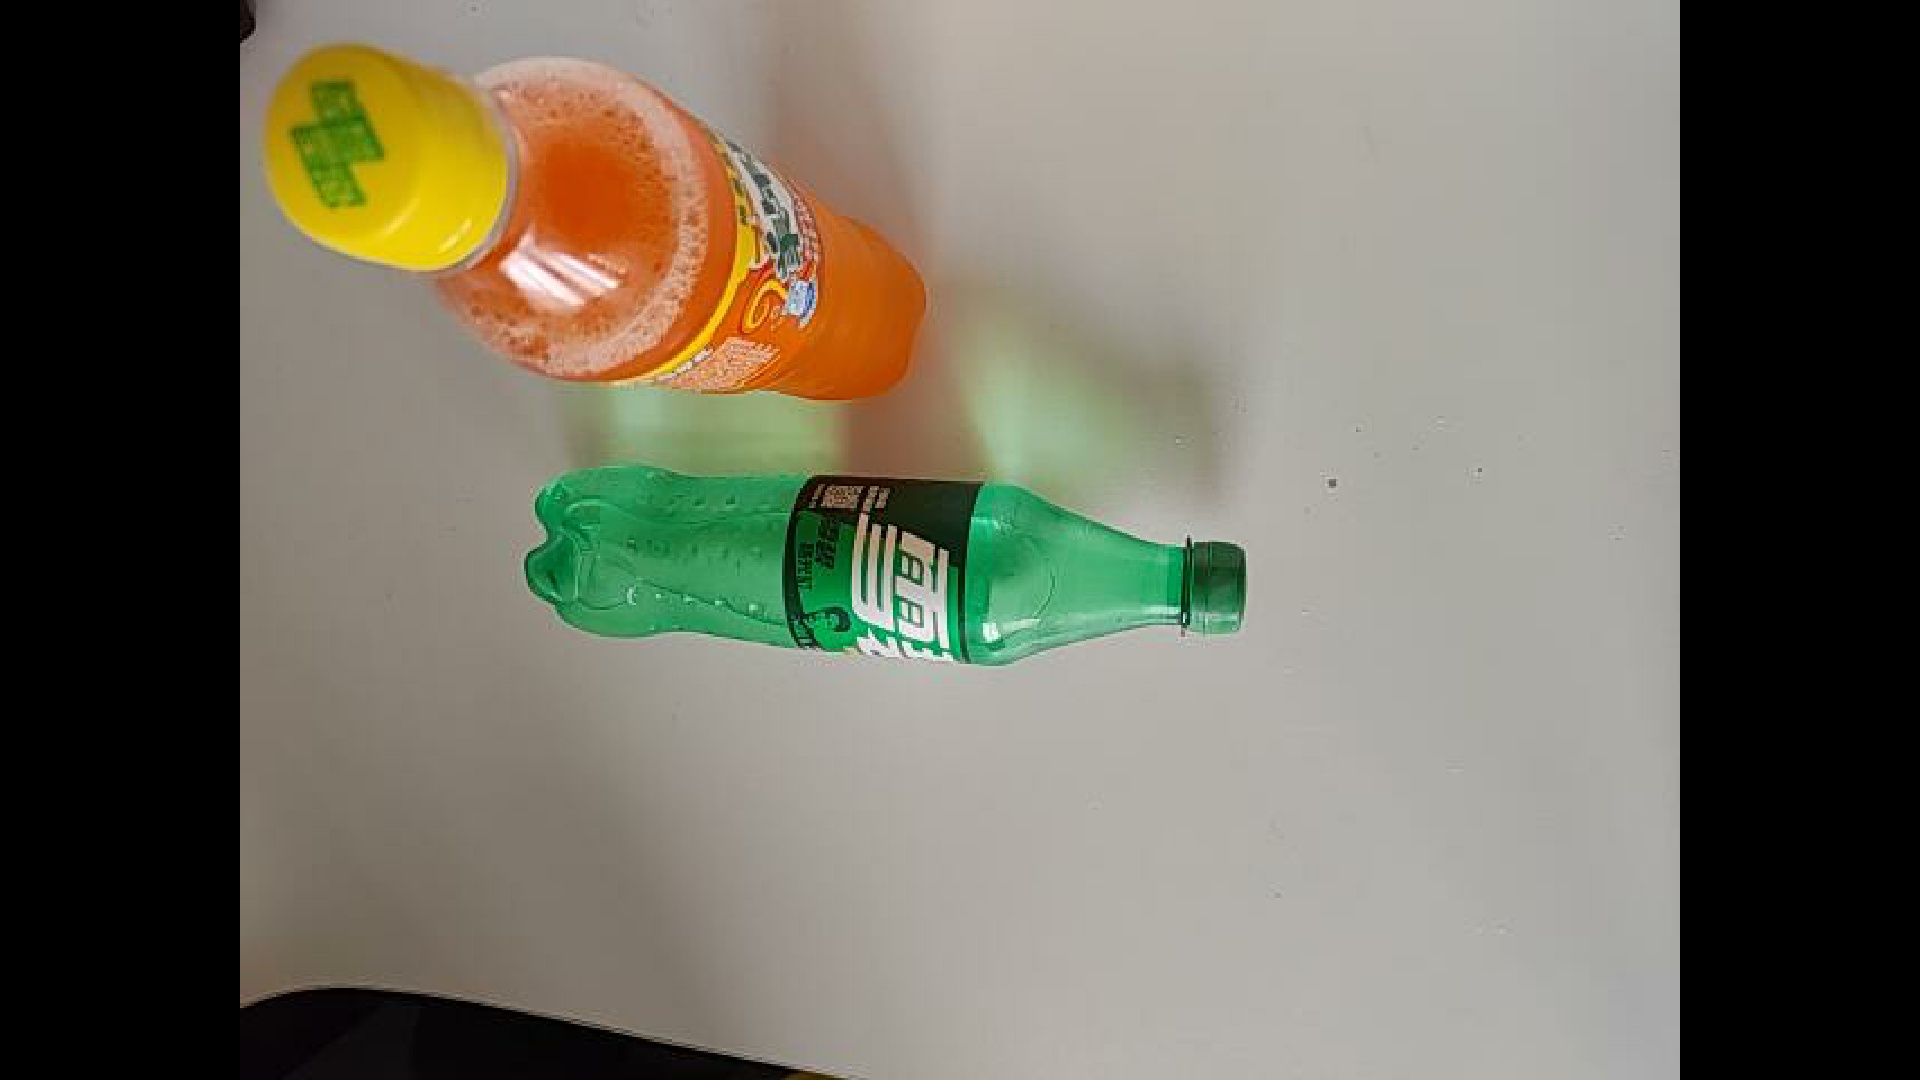fenta: (260, 44, 928, 402)
sprite: (512, 456, 1253, 665)
